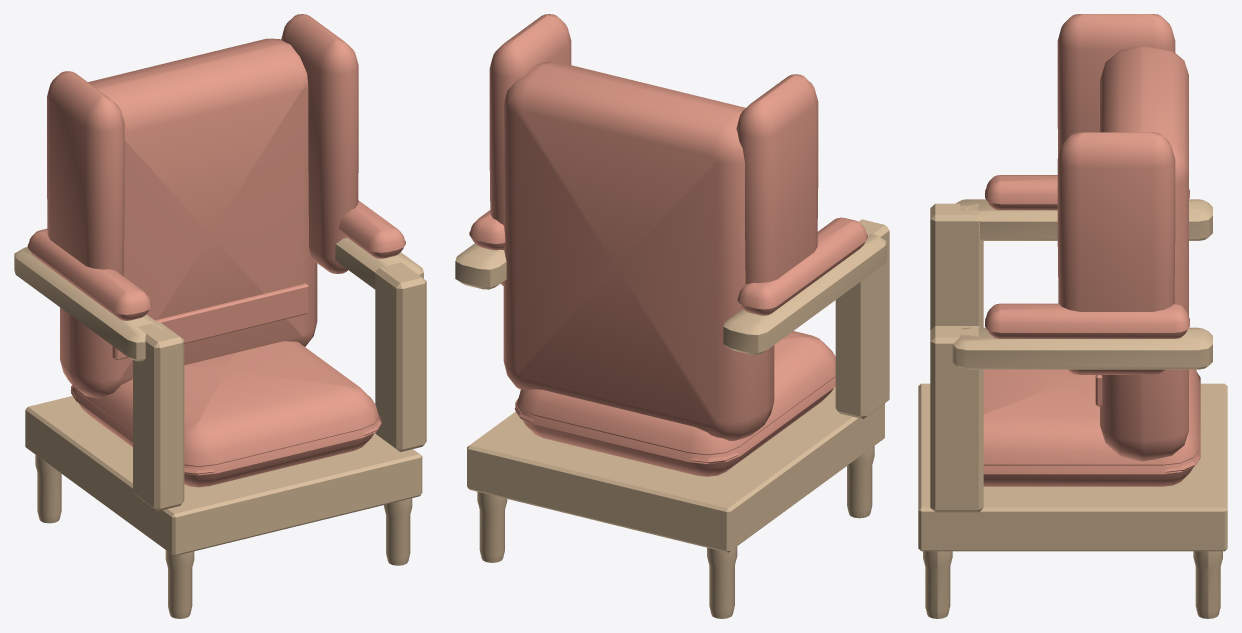
The model's file is care-home-and-day-room-high-back-lounge-chair-red-cf1ced56__35731.glb.
3 views of the same model, side by side, from view 1: azimuth 30°, elevation 25°; view 2: azimuth 150°, elevation 25°; view 3: azimuth 270°, elevation 25° (orthographic). The views are drawn at different scales.
Visible parts, largest first — view 1: high-back-lounge-chair-red; view 2: high-back-lounge-chair-red; view 3: high-back-lounge-chair-red.
Boxes of the visible parts, bbox=[...] form: high-back-lounge-chair-red: bbox=[14, 14, 426, 618]; high-back-lounge-chair-red: bbox=[455, 14, 889, 618]; high-back-lounge-chair-red: bbox=[918, 14, 1227, 618].
Bounding box in the file's own units: 0.73 × 1.11 × 0.64.
